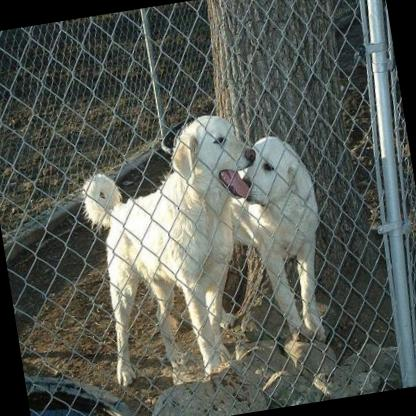Great_Pyrenees: (71, 108, 289, 390), (218, 128, 338, 350)
